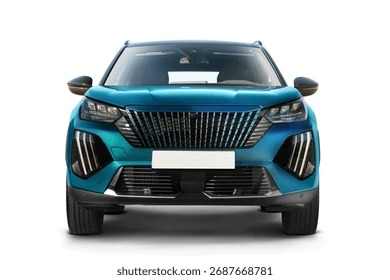car: (52, 38, 327, 237), (57, 46, 326, 230)
